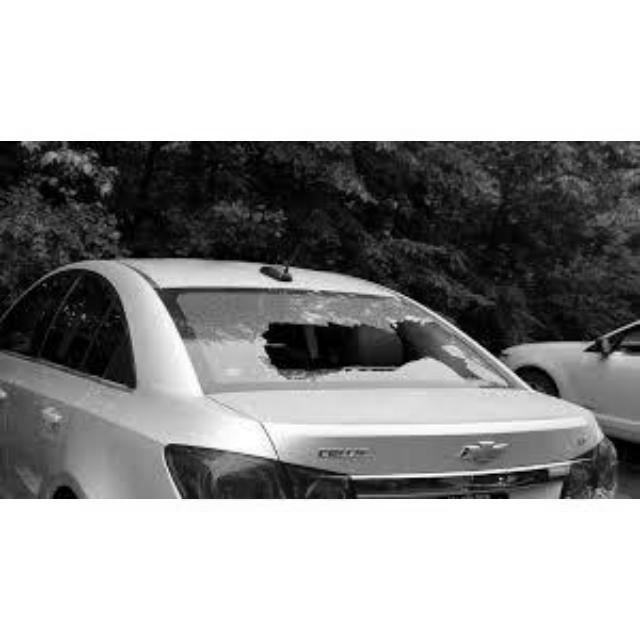Rear-windscreen-Damage: (158, 276, 520, 414)
